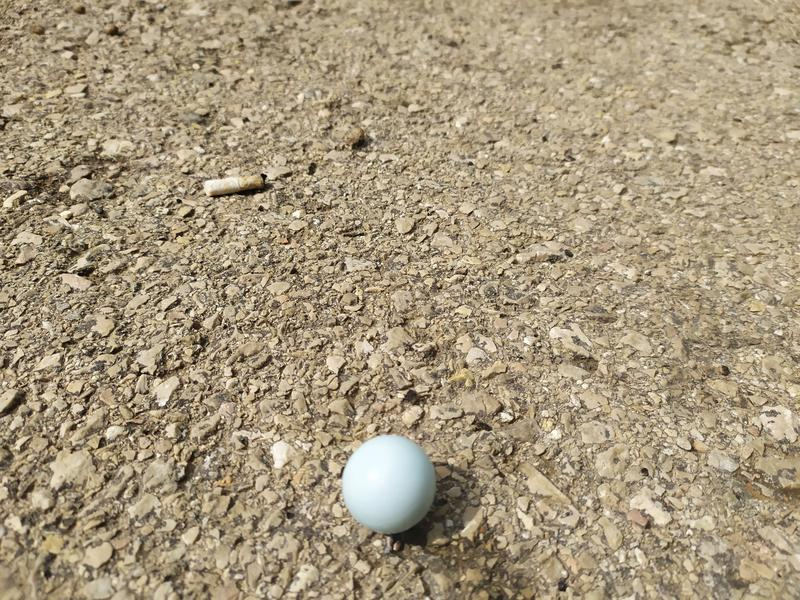Warning: (338, 431, 438, 538)
